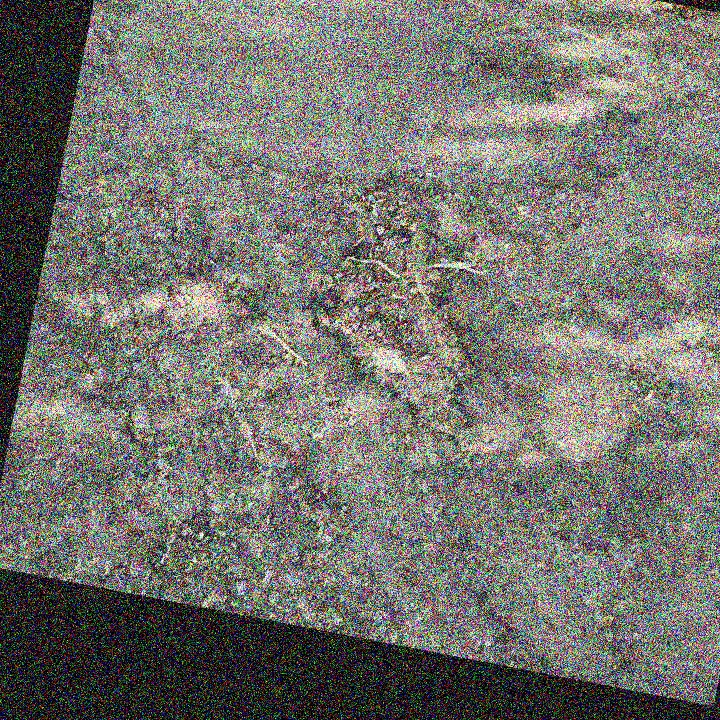pothole: (281, 152, 524, 445)
